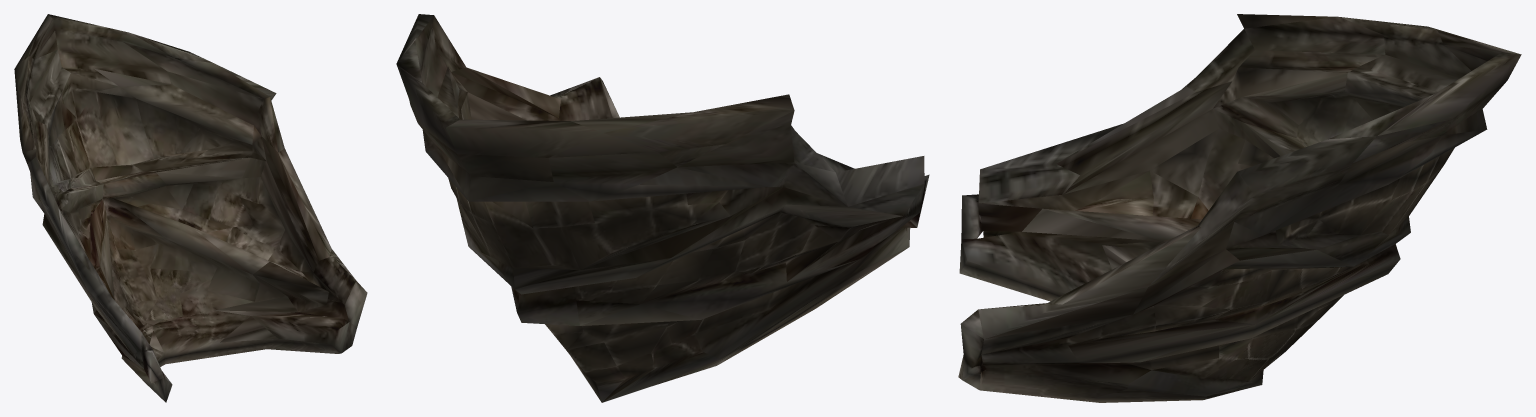
Rendered from v2_vault_ready.glb.
3 views of the same model, side by side, from view 1: azimuth 30°, elevation 25°; view 2: azimuth 150°, elevation 25°; view 3: azimuth 270°, elevation 25° (orthographic). The views are drawn at different scales.
Parts seen in each view (by area): view 1: Module; view 2: Module; view 3: Module.
Part boxes in pixels (x1,y1,x2,y2): Module: [14, 14, 367, 402]; Module: [396, 14, 929, 402]; Module: [958, 14, 1521, 402].
Bounding box in the file's own units: 3 × 3 × 4.4.
Materials: 1 (1 with a texture image).
